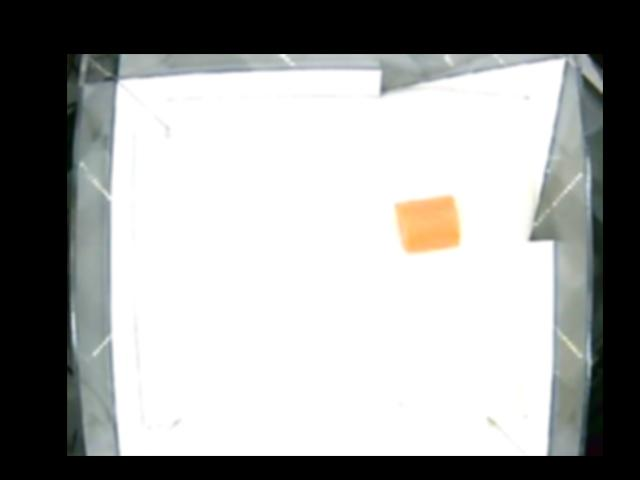Carrot: (391, 193, 459, 249)
